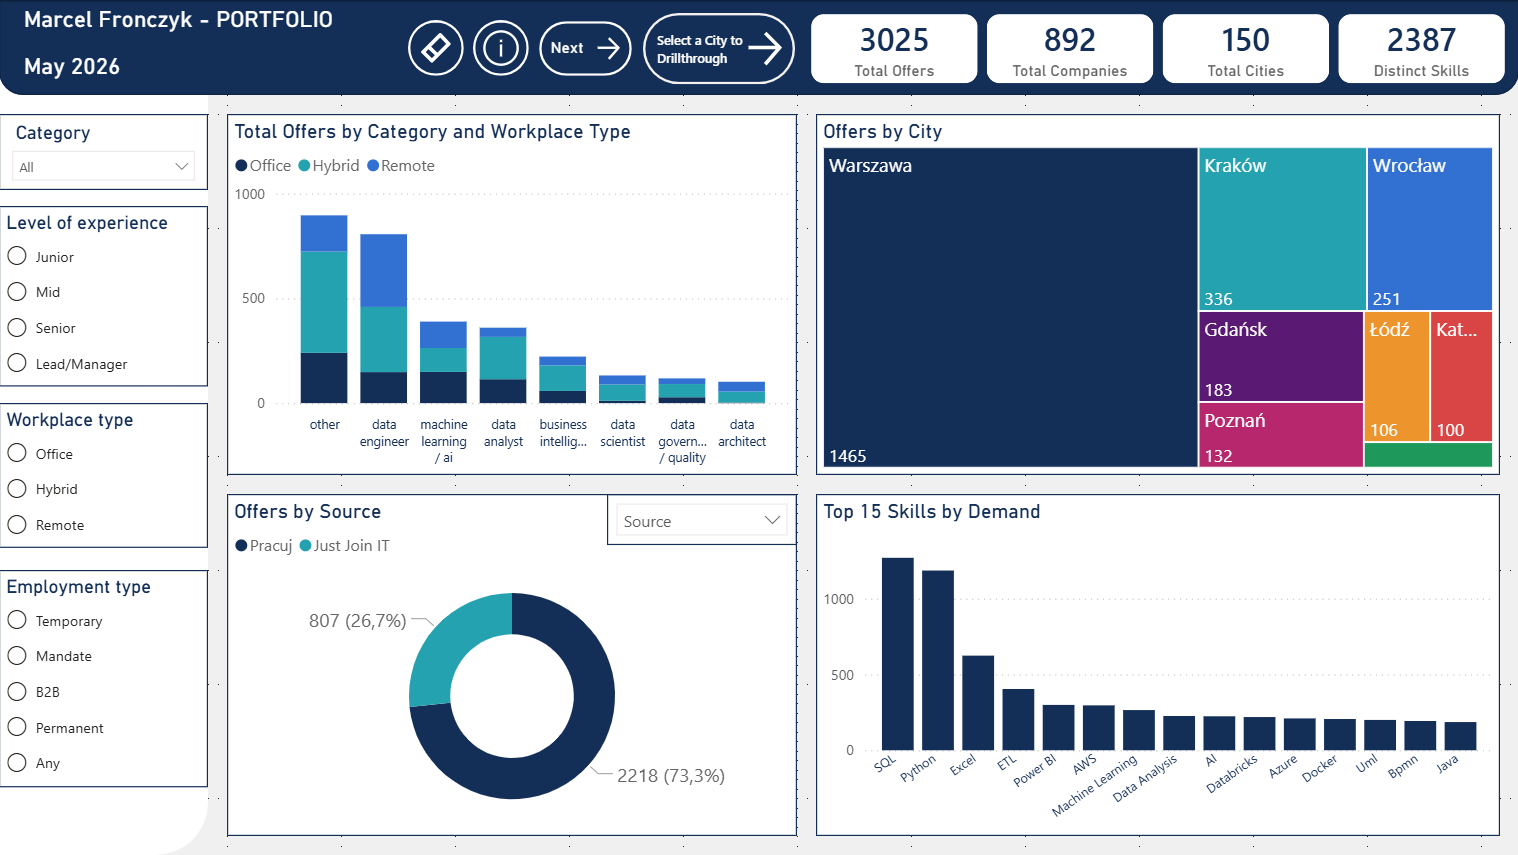

The dashboard page shown, as its layout file describes it:
{"tool":"powerbi","page":{"name":"Offers","canvas":[1280,720],"ordinal":0},"visuals":[{"type":"shape","title":"Slicer Tab","box":[0,0,176,720],"z":0},{"type":"shape","title":"Header","box":[0,0,1280,80],"z":1000},{"type":"textbox","box":[16,0,320,96],"z":2000},{"type":"columnChart","title":"Total Offers by Category and Workplace Type","fields":{"Y":["Offers.Offers Total"],"Category":["Offers.category"],"Series":["Offers.workplace_type"]},"box":[192,96,480,304],"z":3000},{"type":"donutChart","fields":{"Category":["Offers.Source"],"Y":["Offers.Offers Total"]},"box":[192,416,480,288],"z":4000},{"type":"columnChart","title":"Top 15 Skills by Demand","fields":{"Y":["OfferSkills.Skill demand"],"Category":["OfferSkills.skills"]},"box":[688,416,576,288],"z":5000},{"type":"listSlicer","title":"Level of experience","fields":{"Values":["Offers.experience_level"]},"box":[0,173.7,176,152],"z":6000},{"type":"listSlicer","title":"Workplace type","fields":{"Values":["Offers.workplace_type"]},"box":[0,339.3,176,122],"z":7000},{"type":"treemap","title":"Offers by City","fields":{"Group":["Offers.city"],"Values":["Offers.Offers Total"]},"box":[688,96,576,304],"z":8000},{"type":"slicer","title":"Category Slicer","fields":{"Values":["Offers.category"]},"box":[0,96,176,64],"z":9000},{"type":"listSlicer","title":"Employment type","fields":{"Values":["Offers.employment_type"]},"box":[0,480,176,183],"z":10000},{"type":"cardVisual","title":"KPIs","fields":{"Data":["Offers.Total Offers","Offers.Total Companies","Offers.Total Cities","OfferSkills.Skills Distinct Count"]},"box":[672,0,608,82],"z":11000},{"type":"slicer","fields":{"Values":["_donut Dimension._donut Dimension"]},"box":[512,416,160,43],"z":12000},{"type":"actionButton","title":"Reset Slicers","box":[344,17,47,47],"z":13000},{"type":"actionButton","title":"Drillthrough Button","box":[542,11,128,60],"z":14000},{"type":"actionButton","title":"Next Page","box":[454,17,80,48],"z":15000},{"type":"actionButton","title":"Expand Explanation","box":[399,17,47,47],"z":17000}]}

Visuals, with their boxes in screenshot pixels (x1, y1, x2, y2), scaled from the page's 1280x720 canvas onto the 1518x855 screenshot:
"Slicer Tab" shape: left=0, top=0, right=209, bottom=854
"Header" shape: left=0, top=0, right=1517, bottom=95
textbox: left=19, top=0, right=398, bottom=114
"Total Offers by Category and Workplace Type" columnChart: left=228, top=114, right=797, bottom=475
donutChart - Offers.Source x Offers.Offers Total: left=228, top=494, right=797, bottom=836
"Top 15 Skills by Demand" columnChart: left=816, top=494, right=1499, bottom=836
"Level of experience" listSlicer: left=0, top=206, right=209, bottom=387
"Workplace type" listSlicer: left=0, top=403, right=209, bottom=548
"Offers by City" treemap: left=816, top=114, right=1499, bottom=475
"Category Slicer" slicer: left=0, top=114, right=209, bottom=190
"Employment type" listSlicer: left=0, top=570, right=209, bottom=787
"KPIs" cardVisual: left=797, top=0, right=1517, bottom=97
slicer - _donut Dimension._donut Dimension: left=607, top=494, right=797, bottom=545
"Reset Slicers" actionButton: left=408, top=20, right=464, bottom=76
"Drillthrough Button" actionButton: left=643, top=13, right=795, bottom=84
"Next Page" actionButton: left=538, top=20, right=633, bottom=77
"Expand Explanation" actionButton: left=473, top=20, right=529, bottom=76
